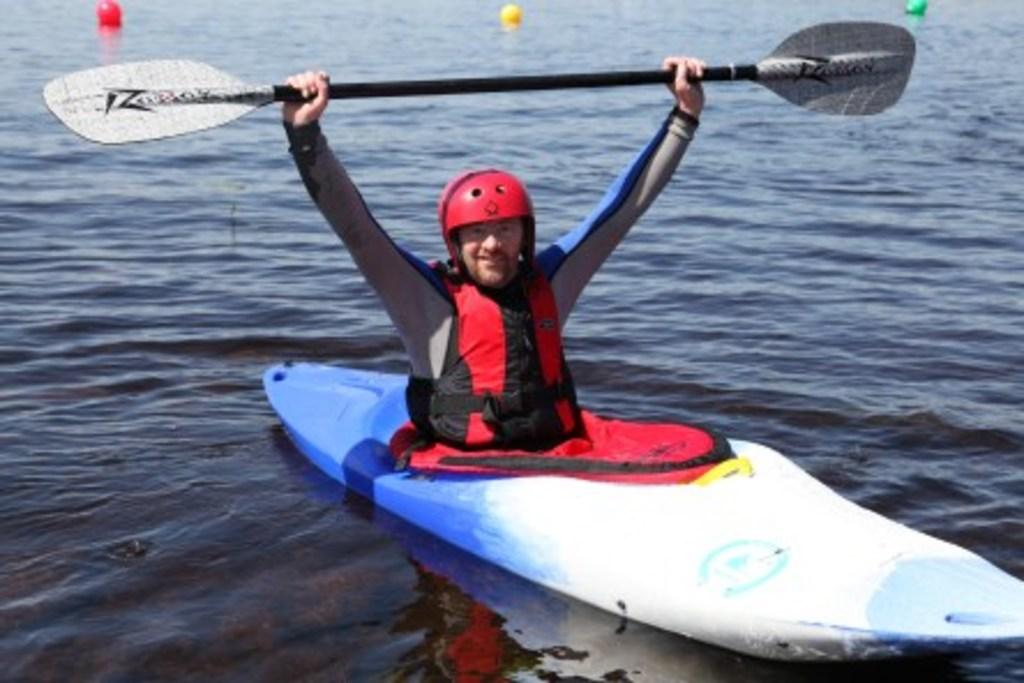helmet: (438, 169, 536, 283)
